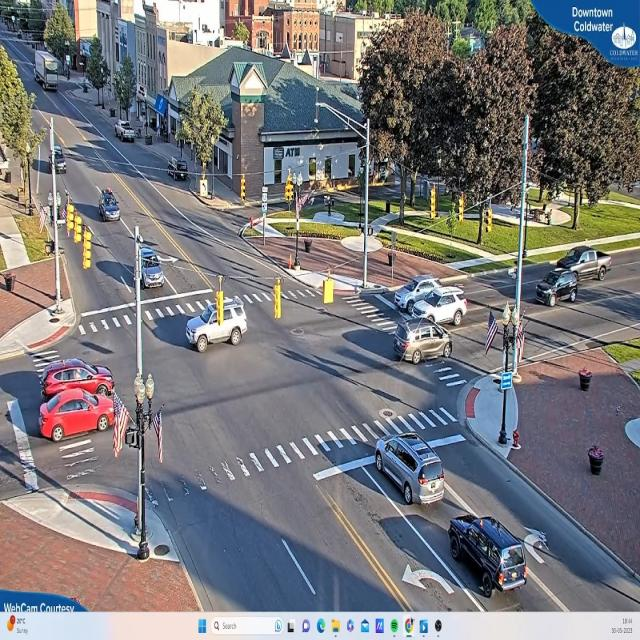car: (449, 514, 532, 594), (373, 433, 445, 506), (39, 390, 116, 442), (40, 358, 114, 401), (182, 306, 250, 352), (398, 321, 452, 364), (409, 288, 466, 328), (554, 247, 612, 280), (535, 270, 577, 306), (142, 243, 165, 292), (100, 186, 120, 220), (117, 121, 138, 143)
truck: (34, 51, 61, 91)
